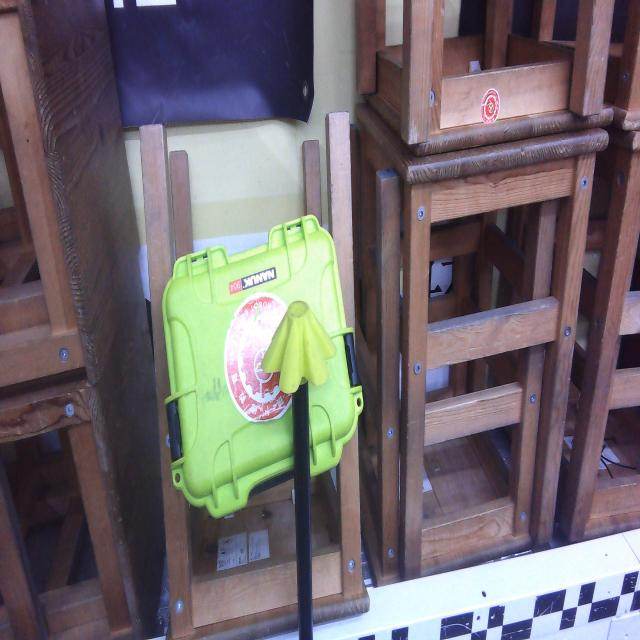Yellow-Stake-Head: (260, 301, 336, 394)
